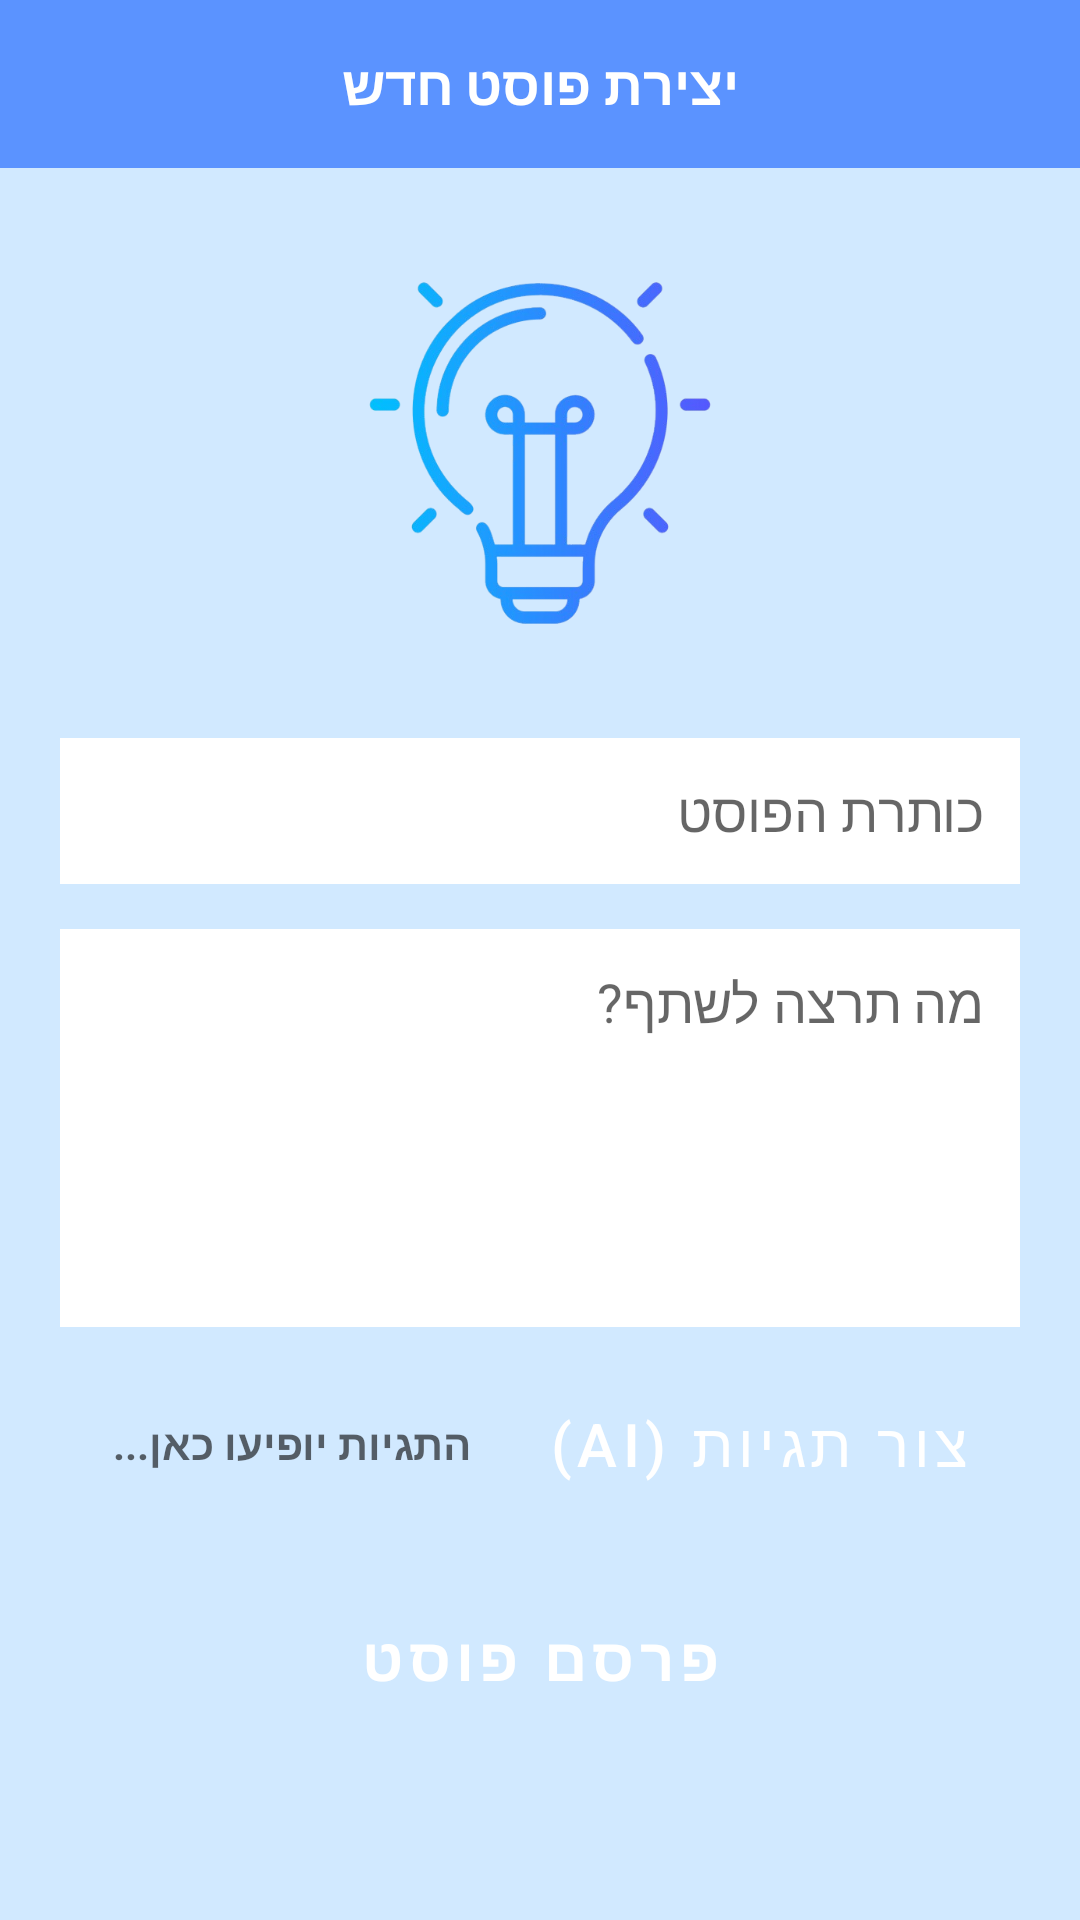

Screen size 1080px×1920px. Icon name, then its center in pixels as (x,y):
idea: (540,453)
